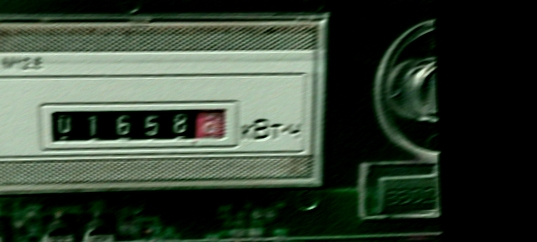0: (55, 113, 73, 134)
1: (85, 113, 100, 137)
5: (143, 113, 160, 137)
6: (114, 113, 133, 137)
8: (171, 112, 189, 134)
9: (201, 119, 217, 140)
screen: (36, 93, 244, 158)
